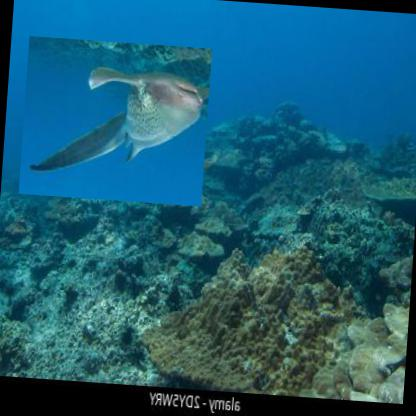zebra_shark: (17, 37, 212, 208)
